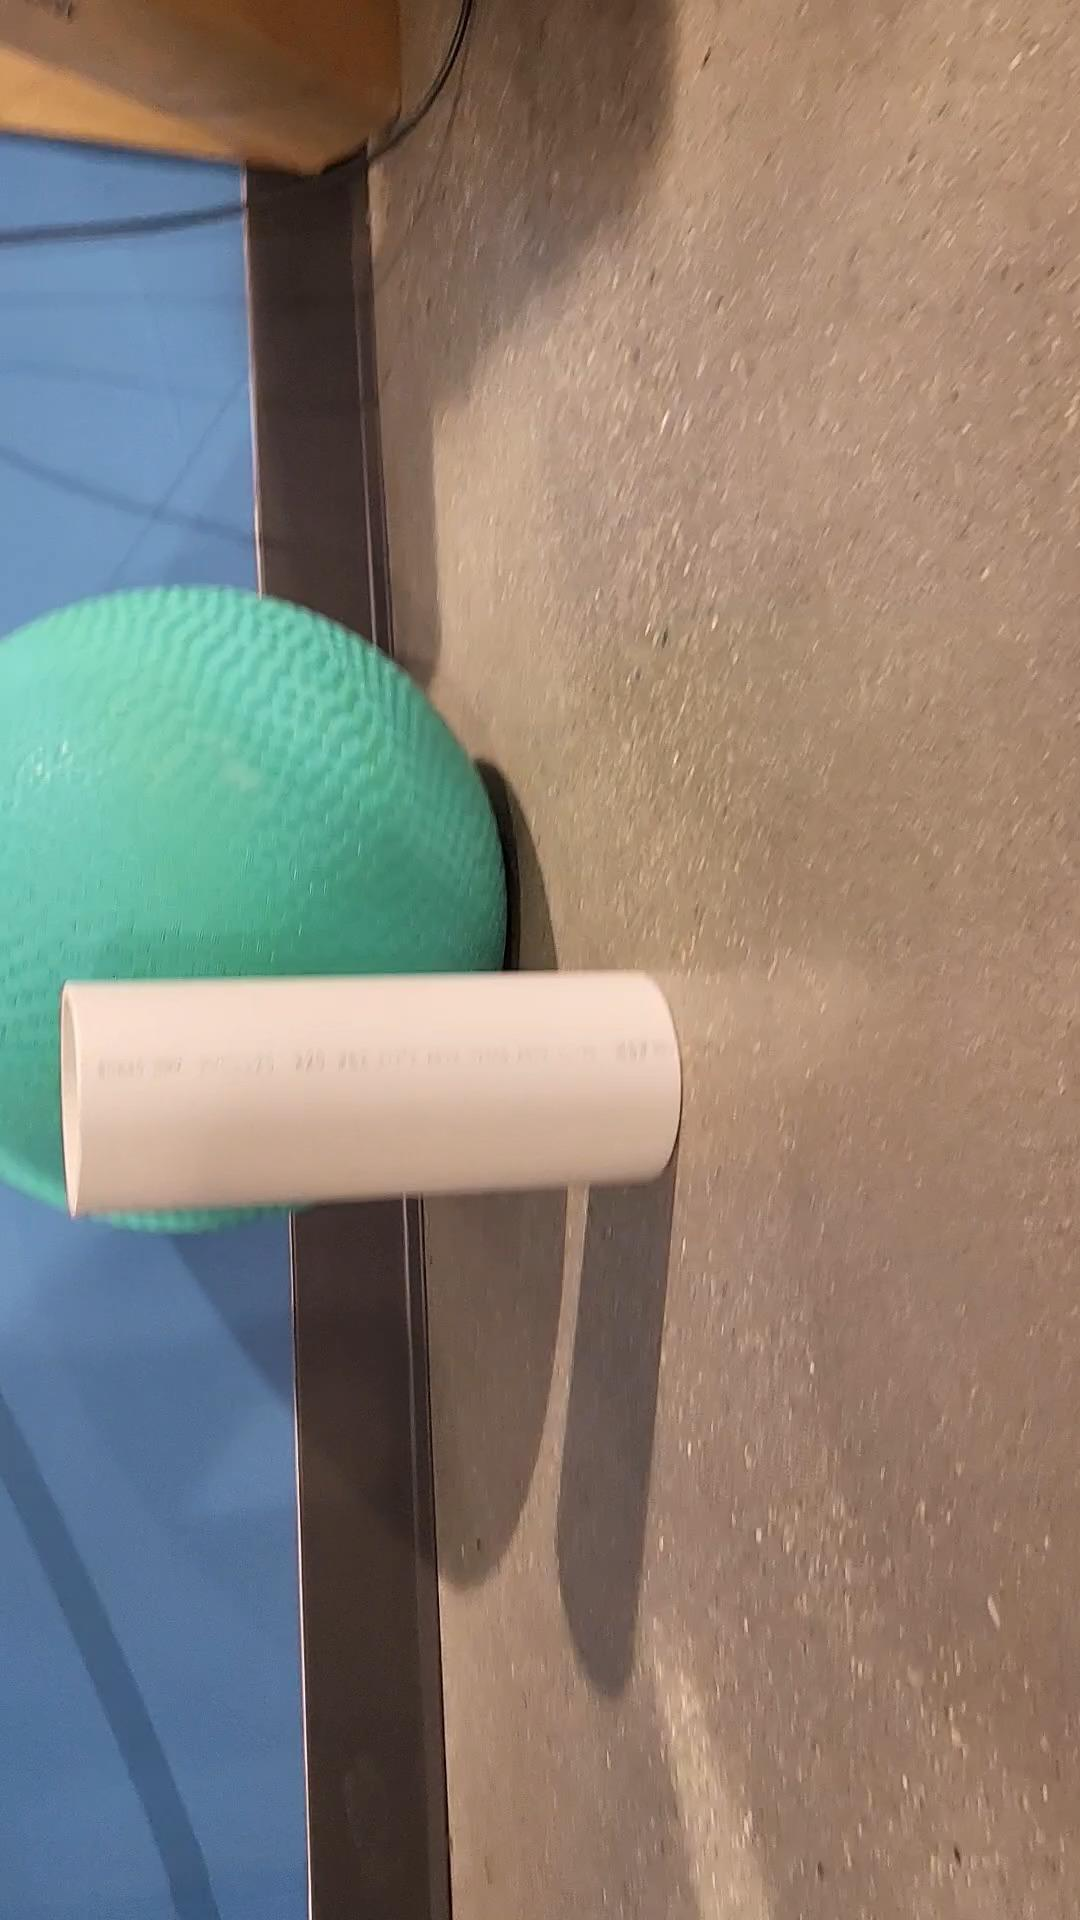algae: (0, 583, 510, 1232)
coral: (61, 975, 680, 1216)
